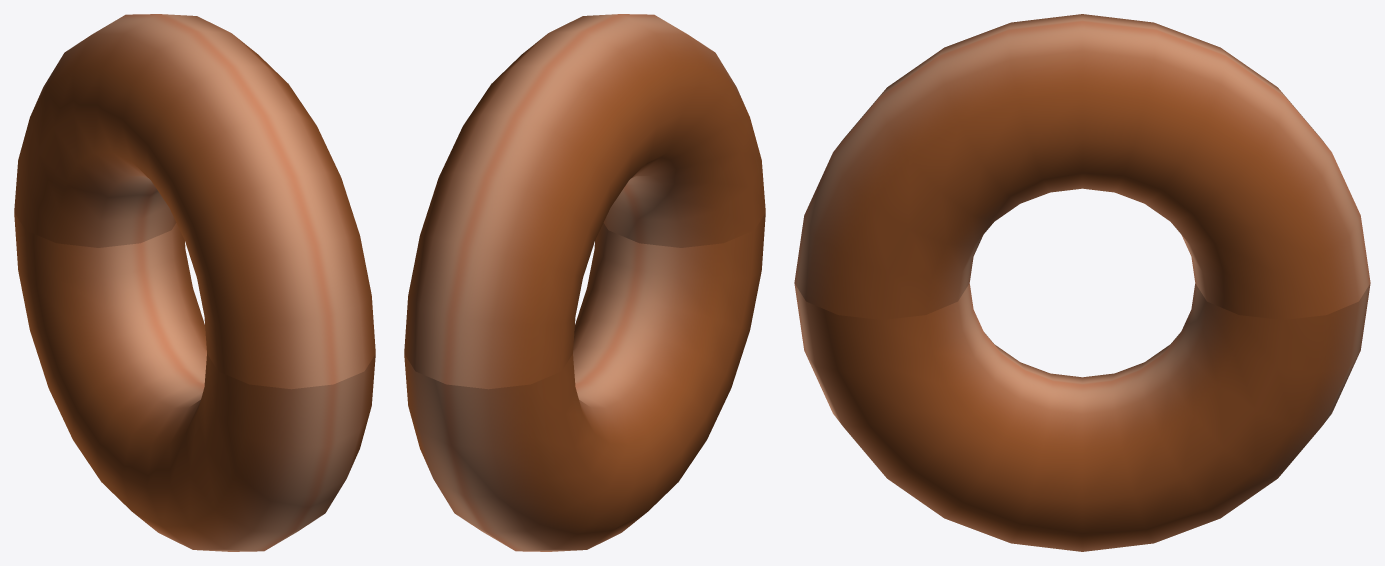
File: Dounat_pieces.fbx
3 renders of one model, left to right at view 1: azimuth 30°, elevation 25°; view 2: azimuth 150°, elevation 25°; view 3: azimuth 270°, elevation 25°, orthographic. The views are drawn at different scales.
Visible parts, largest first — view 1: Dounat_piece_top, Dounat_piece_bottom; view 2: Dounat_piece_top, Dounat_piece_bottom; view 3: Dounat_piece_top, Dounat_piece_bottom.
Boxes of the visible parts, <box> form: Dounat_piece_top: <box>14,14,375,389</box>; Dounat_piece_bottom: <box>14,213,375,551</box>; Dounat_piece_top: <box>404,14,765,389</box>; Dounat_piece_bottom: <box>404,213,765,551</box>; Dounat_piece_top: <box>794,14,1370,319</box>; Dounat_piece_bottom: <box>794,283,1370,551</box>.
Bounding box in the file's own units: 207 × 680 × 680.
